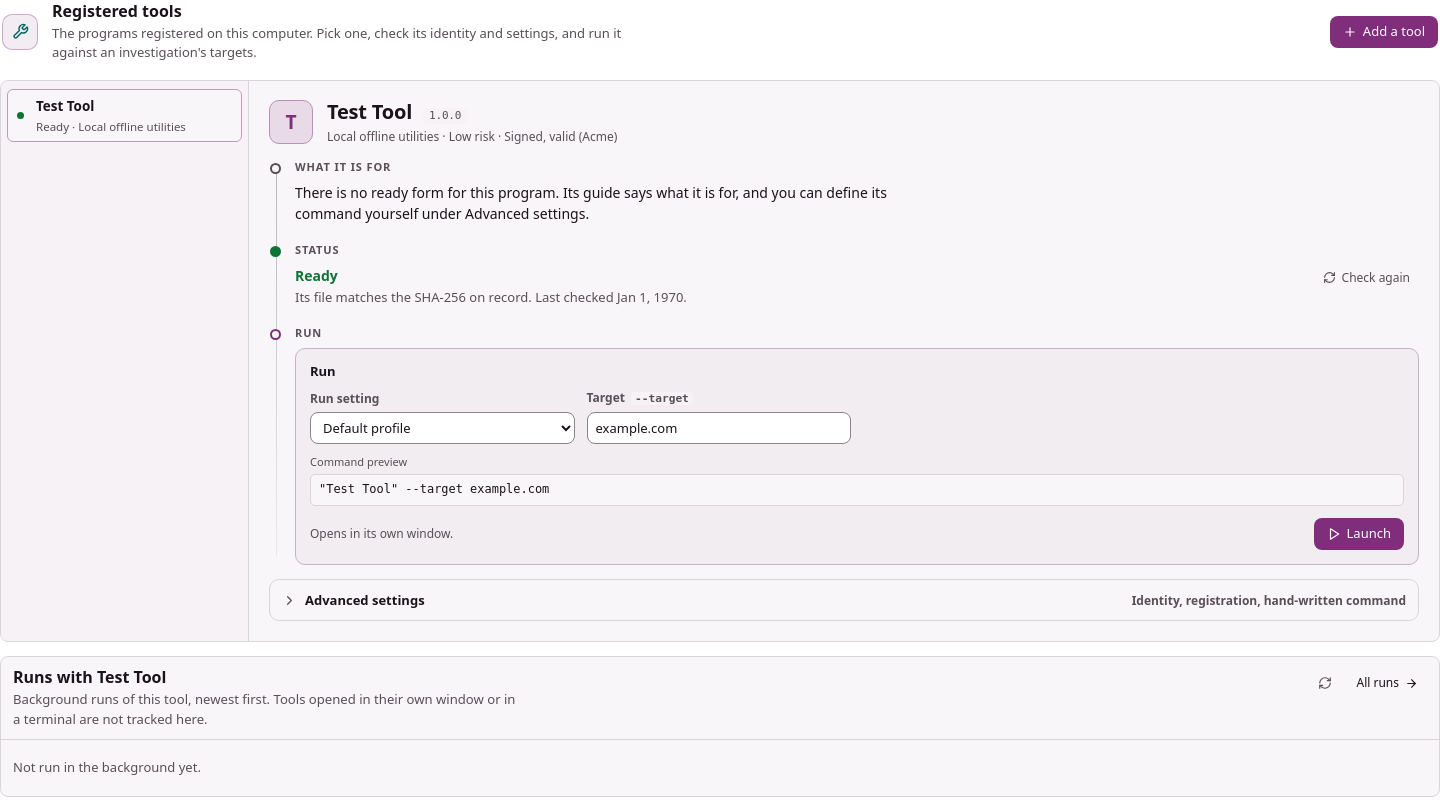
Test case: ToolLabPanel Launch router › launchKind "gui" falls back to a generic translated message for an unrecognized refusal reason, still visibly, never raw
Click the button "Launch".
click(1359, 534)  # box [1314,518,1404,550]
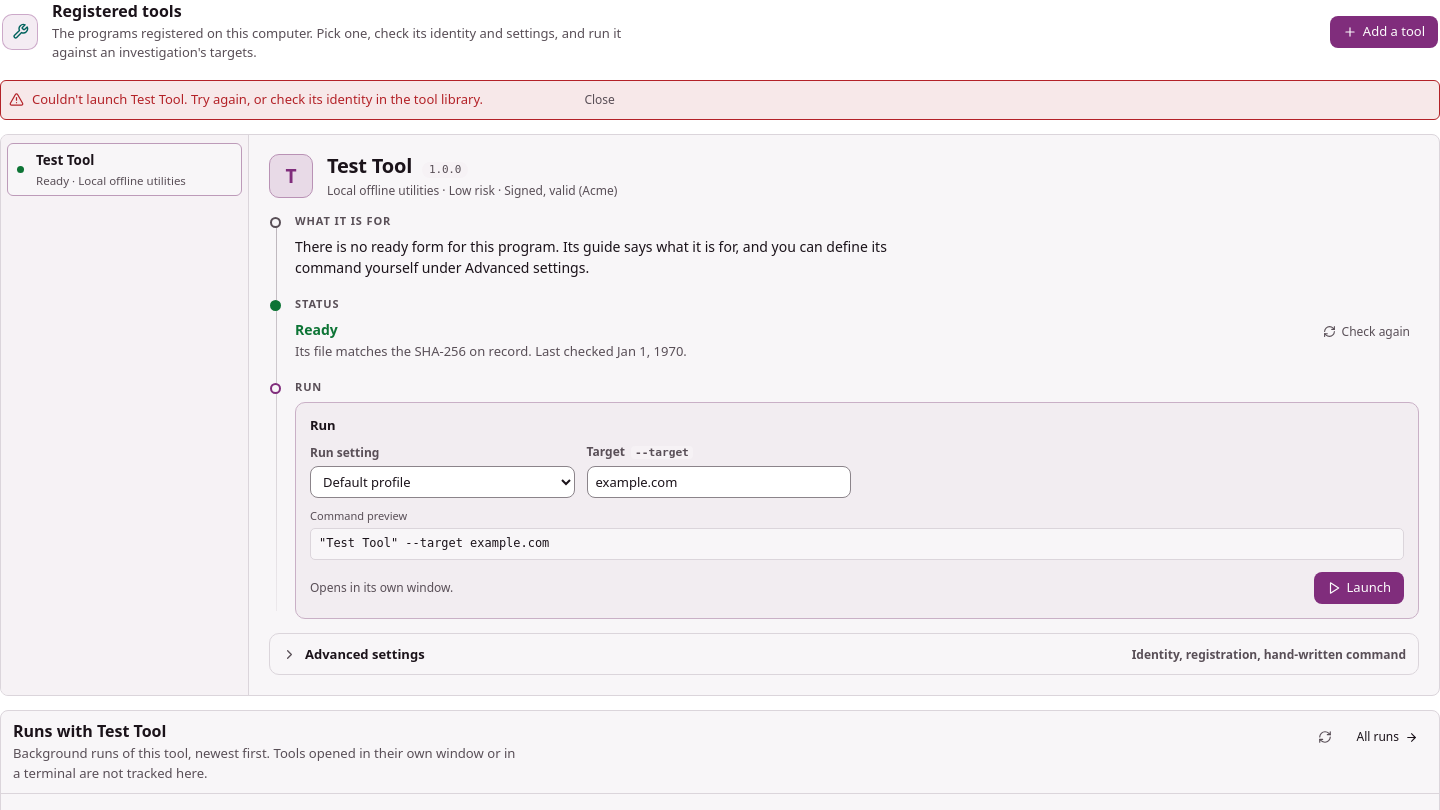
expect the message does not show "spawn_failed": met, box [0,80,1439,120]
expect the message is shown: met, box [0,80,1439,120]
expect the message reads "Couldn't launch Test Tool. Try again, or check its identity in the tool library.": met, box [32,90,483,108]
